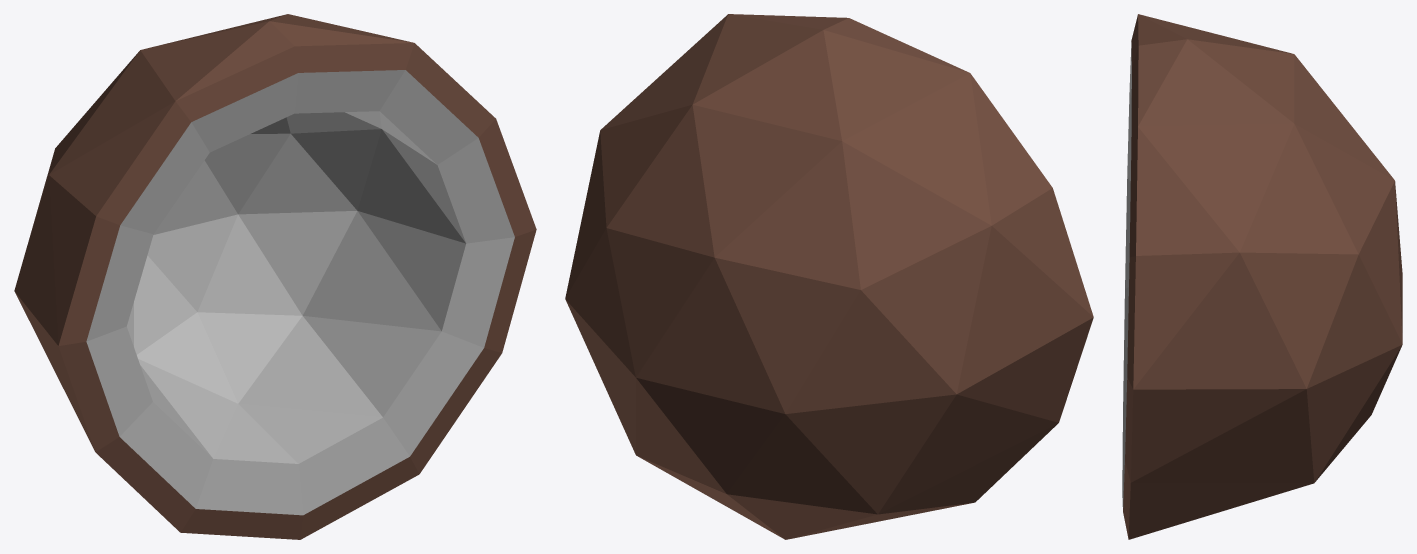
File: Coconut_Half.glb
3 renders of one model, left to right at view 1: azimuth 30°, elevation 25°; view 2: azimuth 150°, elevation 25°; view 3: azimuth 270°, elevation 25°, orthographic. The views are drawn at different scales.
Parts seen in each view (by area): view 1: Coconut_Half; view 2: Coconut_Half; view 3: Coconut_Half.
Boxes of the visible parts, x1=… form: Coconut_Half: x1=14, y1=14, x2=536, y2=539; Coconut_Half: x1=565, y1=14, x2=1093, y2=539; Coconut_Half: x1=1122, y1=14, x2=1402, y2=539.
Size of the model in its own units: 0.7836 by 0.7769 by 0.412.
